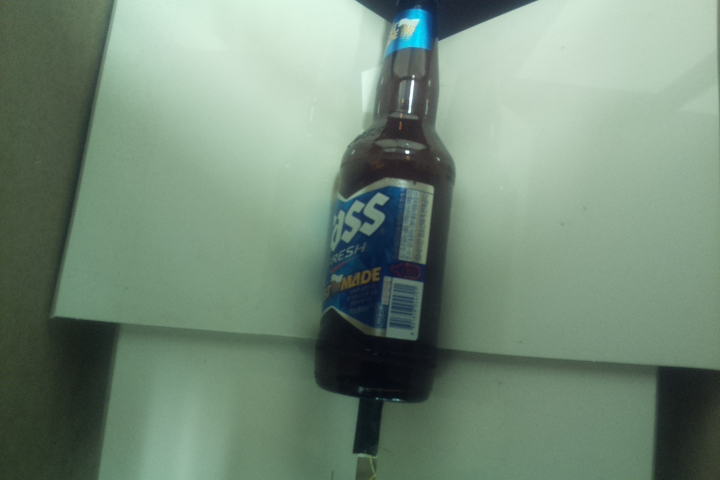makju: (312, 1, 460, 405)
